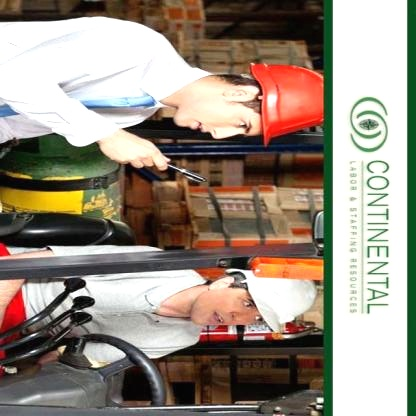red: (243, 58, 324, 149)
white: (238, 264, 318, 338)
